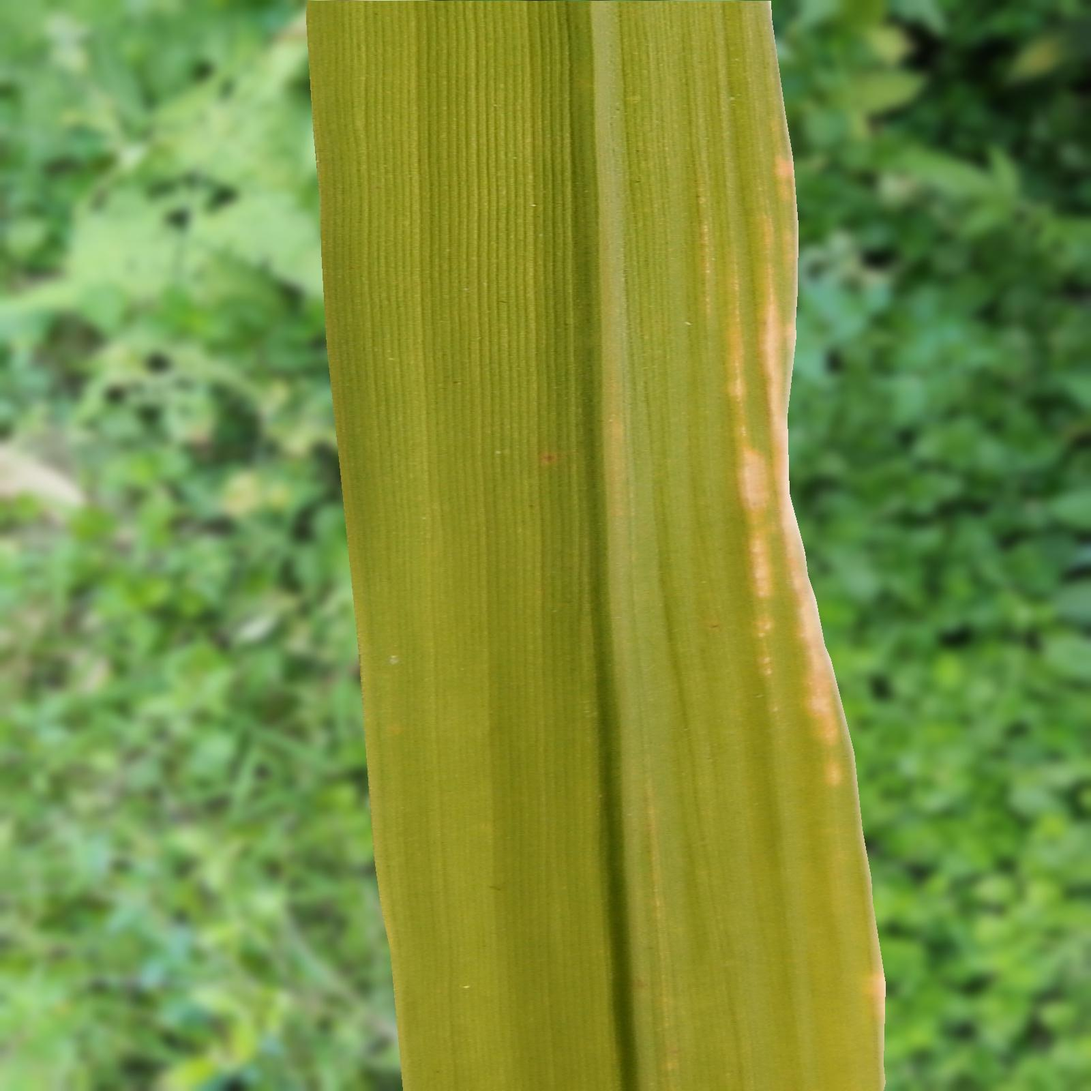BLS: (722, 114, 842, 791)
LEAF: (307, 1, 886, 1090)
